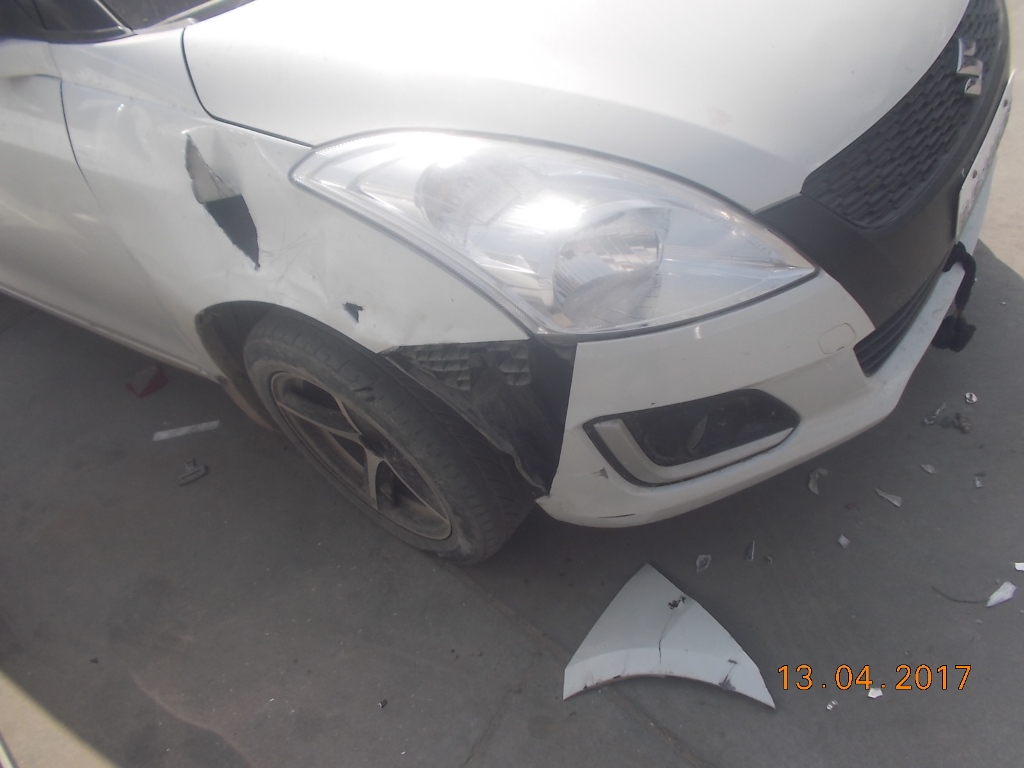Tear: (168, 130, 264, 267)
